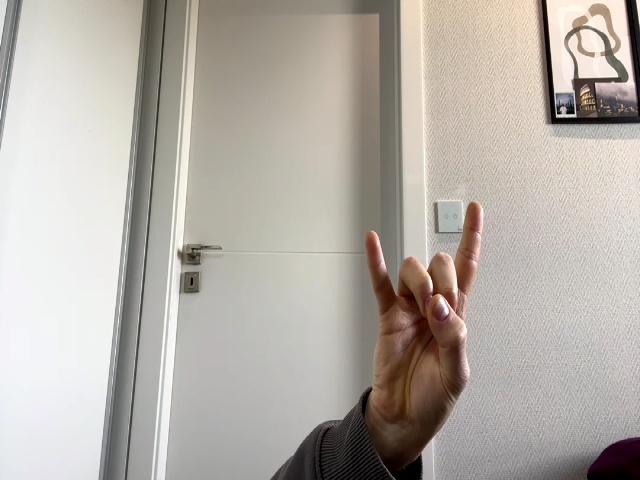Y: (365, 200, 484, 421)
